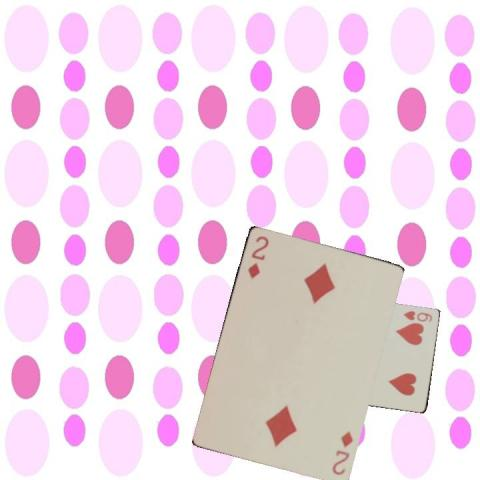2d: (328, 427, 354, 476), (245, 233, 270, 280)
6h: (401, 308, 433, 324)
